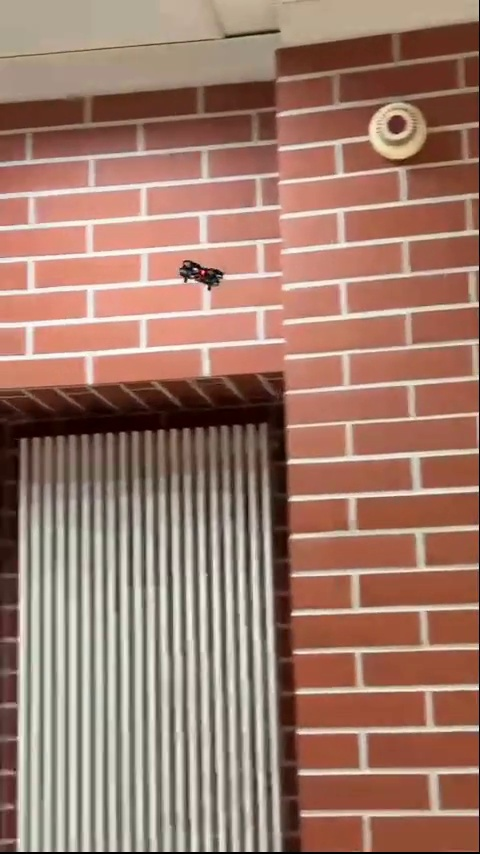drone: (176, 260, 225, 288)
